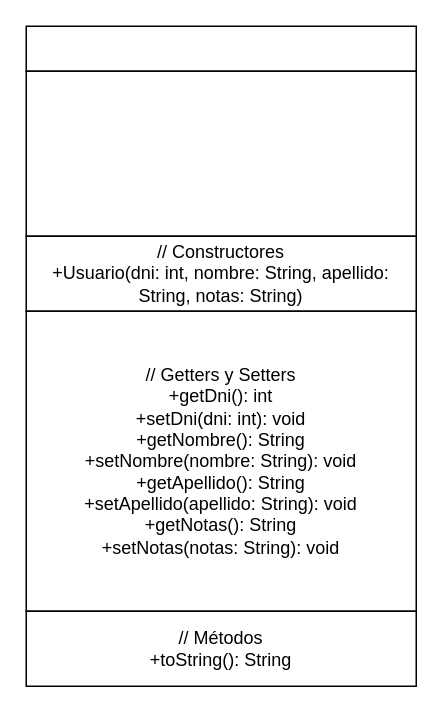
Image size: 443x713. Some labels were removed from this diagram. Each missing label, with the box of its shape:
// Atributos -dni: int -nombre: String -apellido: String -notas: String: (25, 70, 416, 236)
Usuario: (25, 25, 416, 71)
